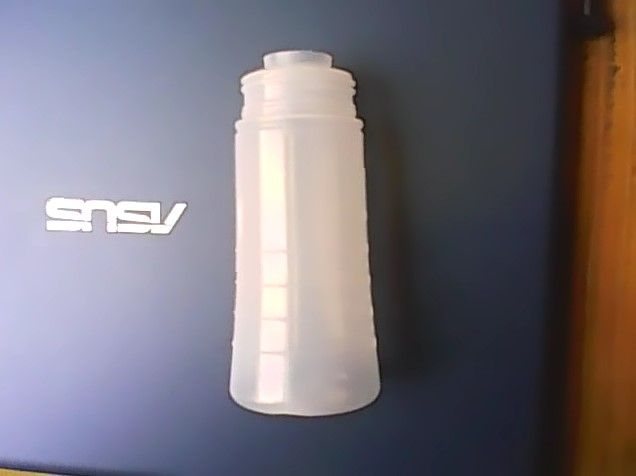Plastic: (228, 45, 387, 422)
